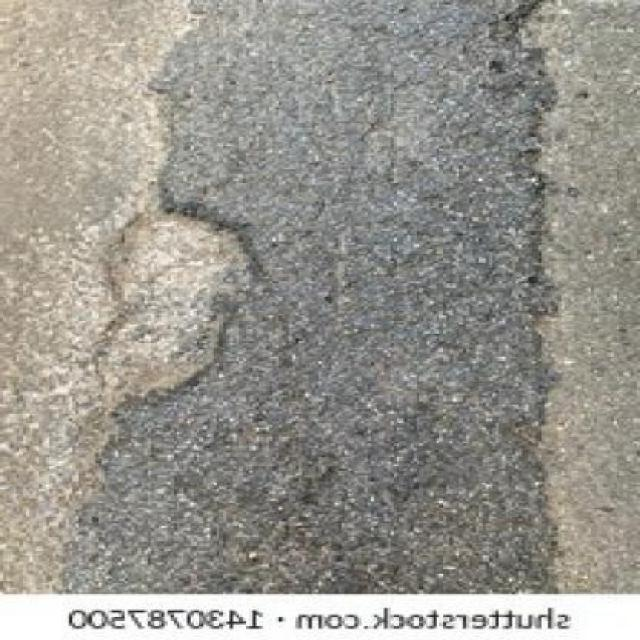pothole: (89, 197, 270, 405)
